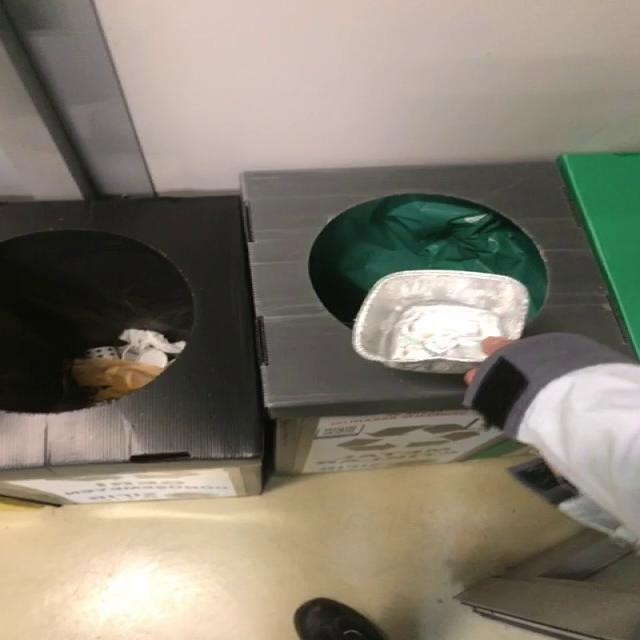Metal: (352, 270, 529, 374)
